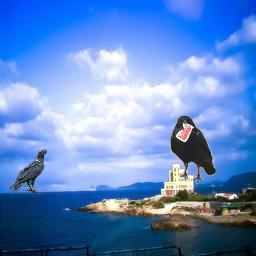Crow: (170, 115, 217, 184), (9, 149, 48, 194)
